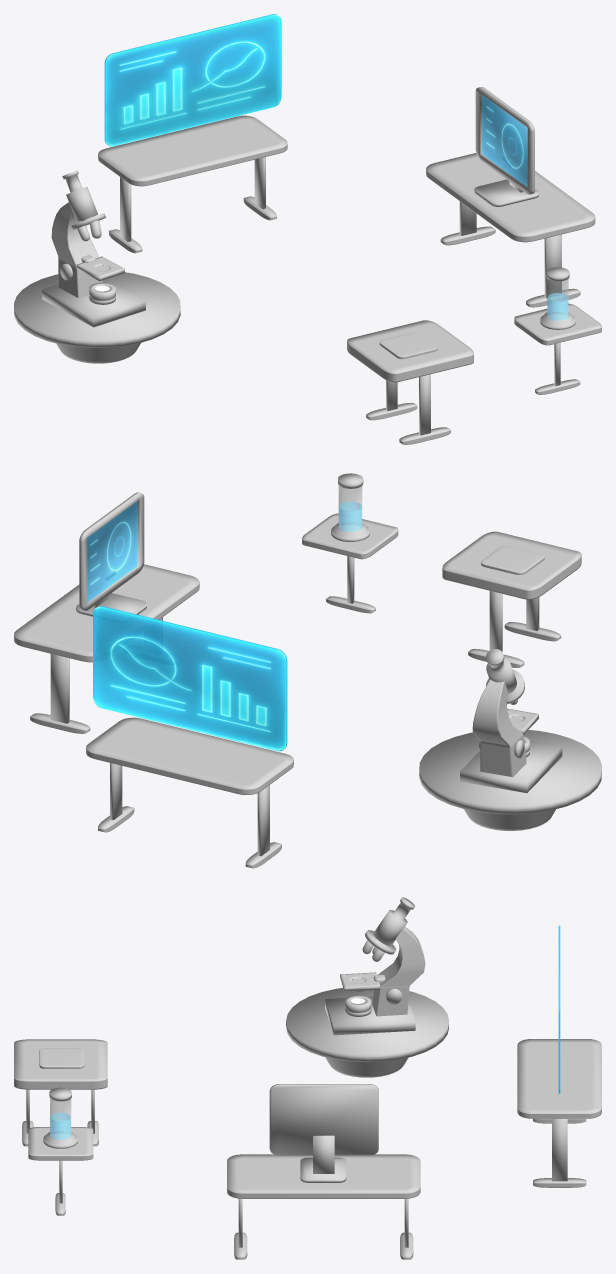
File: lab2.glb
The picture shows the model from 3 angles, top to bottom: view 1: azimuth 30°, elevation 25°; view 2: azimuth 150°, elevation 25°; view 3: azimuth 270°, elevation 25°; orthographic projection. The views are drawn at different scales.
Parts seen in each view (by area): view 1: Hologram, Table_part, Suport_v1, Table_part_v1, Monitor Screen, Table_part_v4, Stand, Support.002, Table_part_v2, Bottle, Table Stand, Table_legs (+9 smaller); view 2: Hologram, Table_part, Suport_v1, Table_part_v1, Monitor Screen, Table_part_v4, Stand, Support.002, Table_part_v2, Bottle, Table_legs, Table Stand (+8 smaller); view 3: Monitor Screen, Table_part_v1, Table_part, Suport_v1, Table_part_v4, Stand, Support.002, Table_part_v2, Bottle, Viewer, Support.001, Table_legs (+9 smaller).
Boxes of the visible parts, x1,y1,x2,y2 form: Hologram: (104,14,281,146); Table_part: (98,115,287,186); Suport_v1: (14,272,180,347); Table_part_v1: (426,153,595,242); Monitor Screen: (475,87,534,194); Table_part_v4: (347,320,473,382); Stand: (51,202,102,297); Support.002: (42,279,145,327); Table_part_v2: (514,303,601,345); Bottle: (540,267,575,329); Table Stand: (459,201,561,298); Table_legs: (120,157,265,241); Hologram: (93,606,287,751); Table_part: (86,717,293,794); Suport_v1: (419,730,601,814); Table_part_v1: (14,564,199,662); Monitor Screen: (79,492,144,610); Table_part_v4: (442,531,581,599); Stand: (472,679,526,777); Support.002: (460,741,562,792); Table_part_v2: (302,513,398,559); Bottle: (331,473,369,541); Table_legs: (110,763,269,856); Table Stand: (50,617,162,723); Monitor Screen: (269,1084,378,1155); Table_part_v1: (227,1154,420,1198); Table_part: (517,1039,601,1118); Suport_v1: (286,988,448,1062); Table_part_v4: (14,1039,107,1089); Stand: (372,927,425,1016); Support.002: (325,996,415,1035); Table_part_v2: (28,1127,93,1160); Bottle: (43,1087,77,1148); Viewer: (365,897,414,954); Support.001: (325,1057,407,1077); Table_legs: (552,1118,567,1181).
Bounding box in the file's own units: 10.83 × 4 × 11.21.
7 materials, 2 textured.
